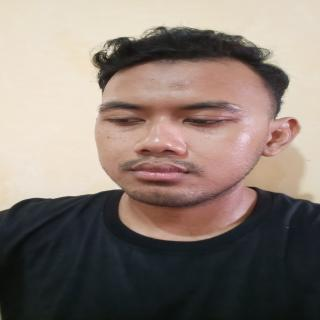Sedih: (93, 52, 269, 210)
